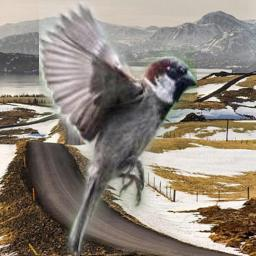Sparrow: (39, 1, 197, 255)
